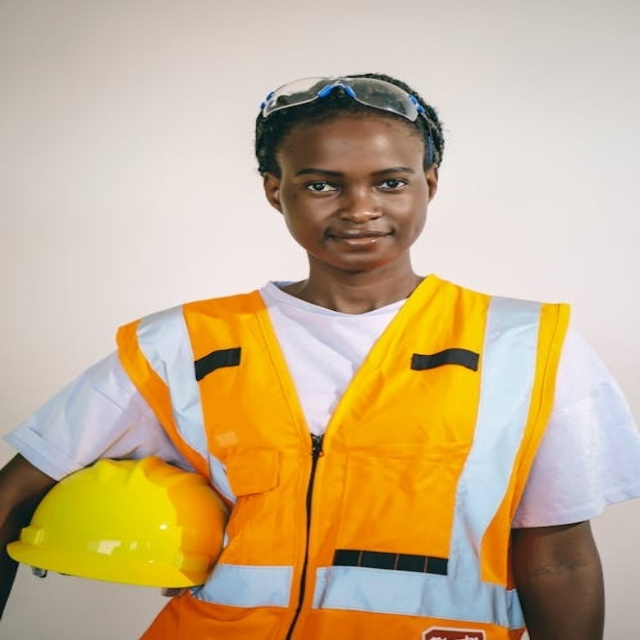Sin_gafas: (288, 161, 417, 200)
Sin_mascara: (316, 222, 398, 260)
